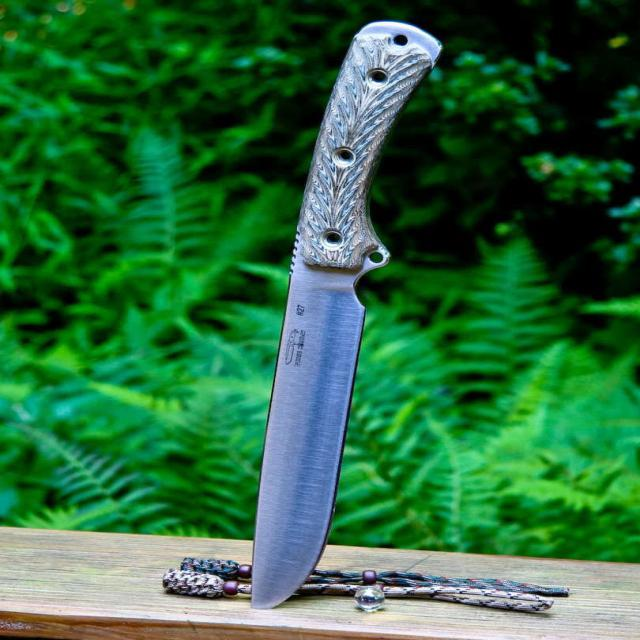Knife: (252, 22, 440, 607)
